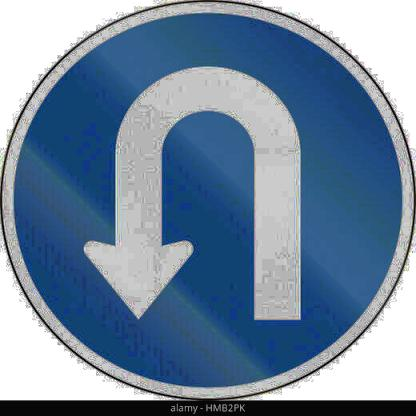U-turn: (3, 0, 416, 393)
